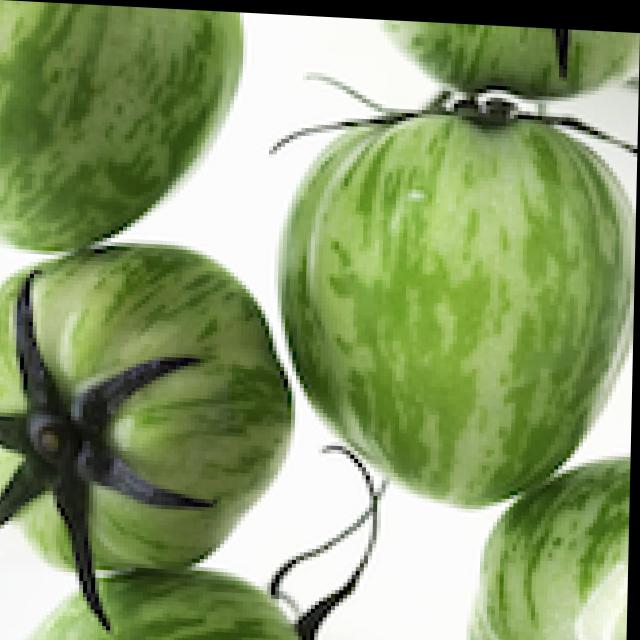yesil: (247, 85, 624, 475)
